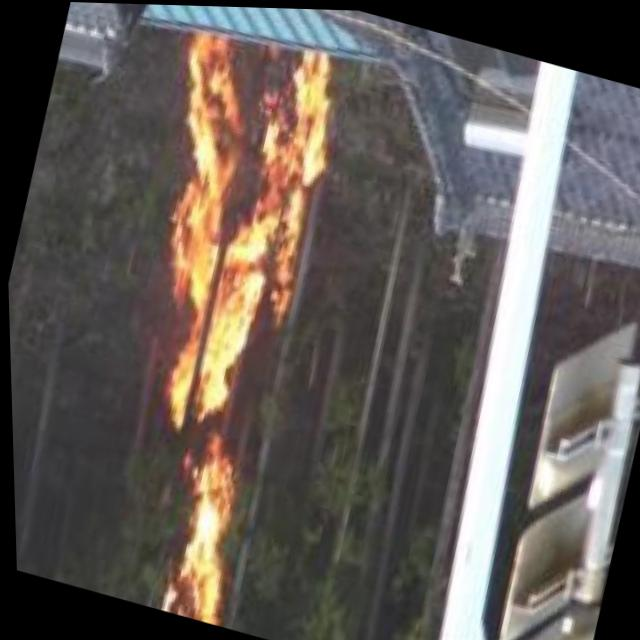Fire: (59, 15, 389, 637)
